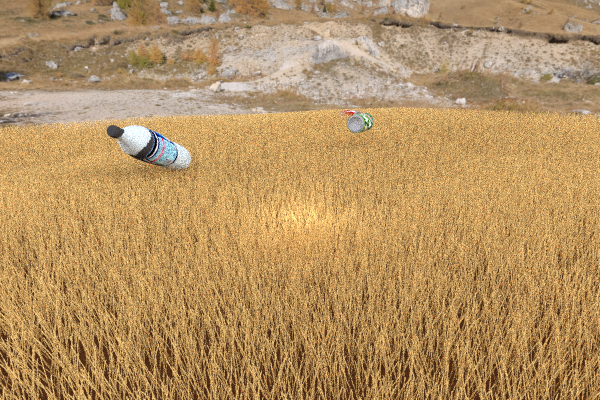Plastic Bottle: (106, 125, 191, 171), (347, 113, 373, 133), (338, 110, 361, 123)
